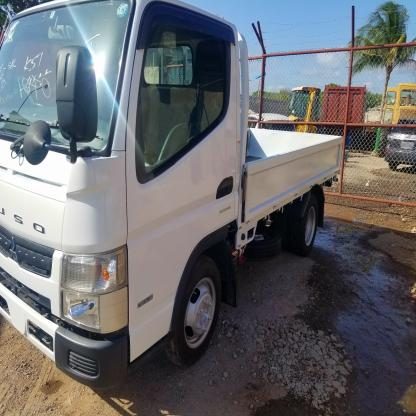truck: (1, 1, 344, 386)
